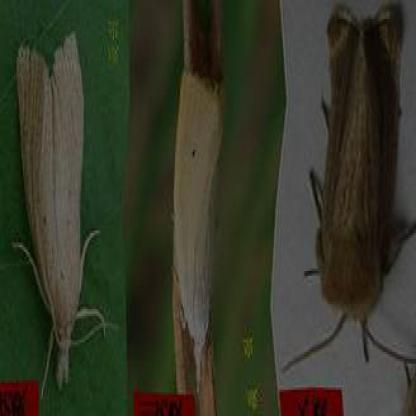stem-borer: (280, 0, 416, 377), (10, 27, 121, 392), (173, 68, 224, 386)
